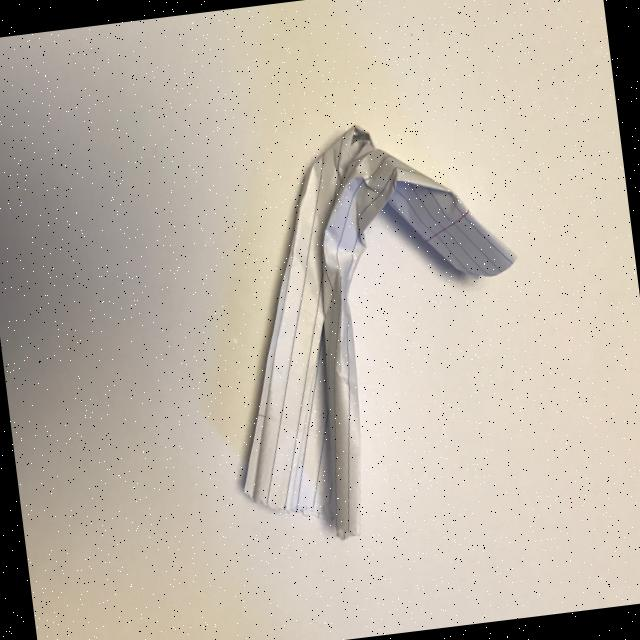paper: (201, 105, 548, 550)
